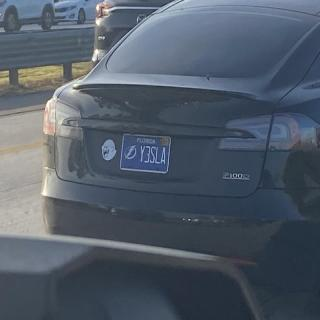license: (120, 134, 174, 176)
